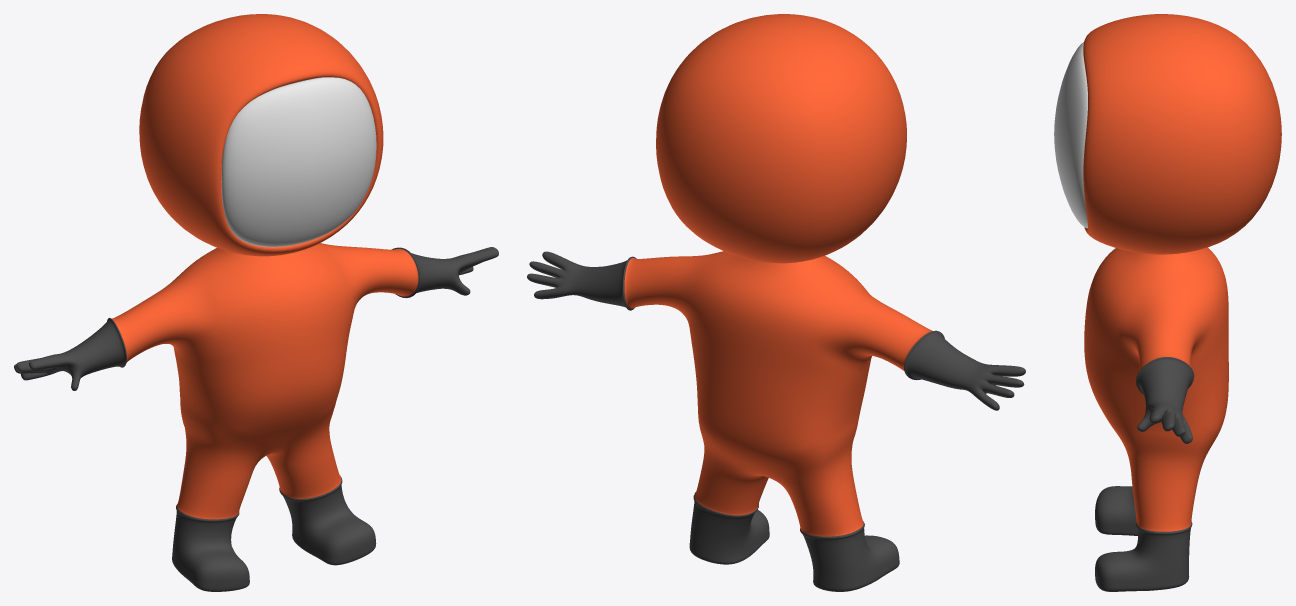
Rendered from astronaut.fbx.
3 renders of one model, left to right at view 1: azimuth 30°, elevation 25°; view 2: azimuth 150°, elevation 25°; view 3: azimuth 270°, elevation 25°, orthographic. The views are drawn at different scales.
Parts seen in each view (by area): view 1: Astronaut; view 2: Astronaut; view 3: Astronaut.
Boxes of the visible parts, x1,y1,x2,y2 form: Astronaut: (14,14,498,591); Astronaut: (527,14,1025,591); Astronaut: (1054,14,1281,591).
Size of the model in its own units: 358 by 377 by 147.
